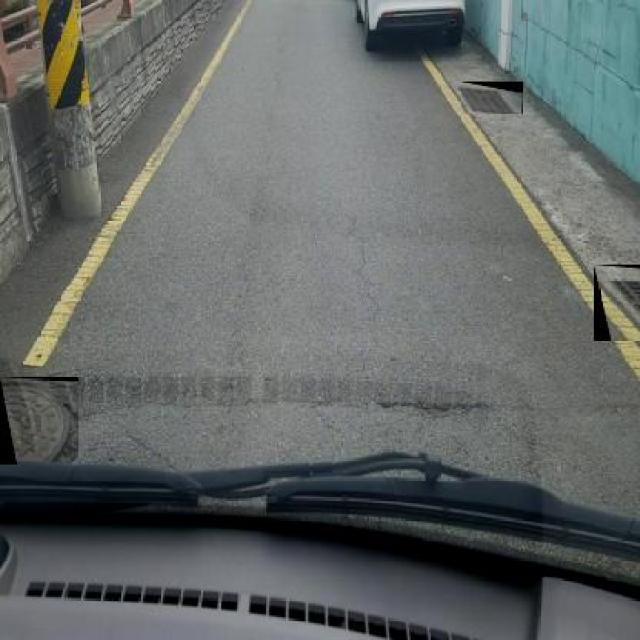Manhole: (0, 377, 78, 464), (594, 264, 640, 340), (460, 81, 523, 114)
Pothole: (370, 394, 499, 418)
